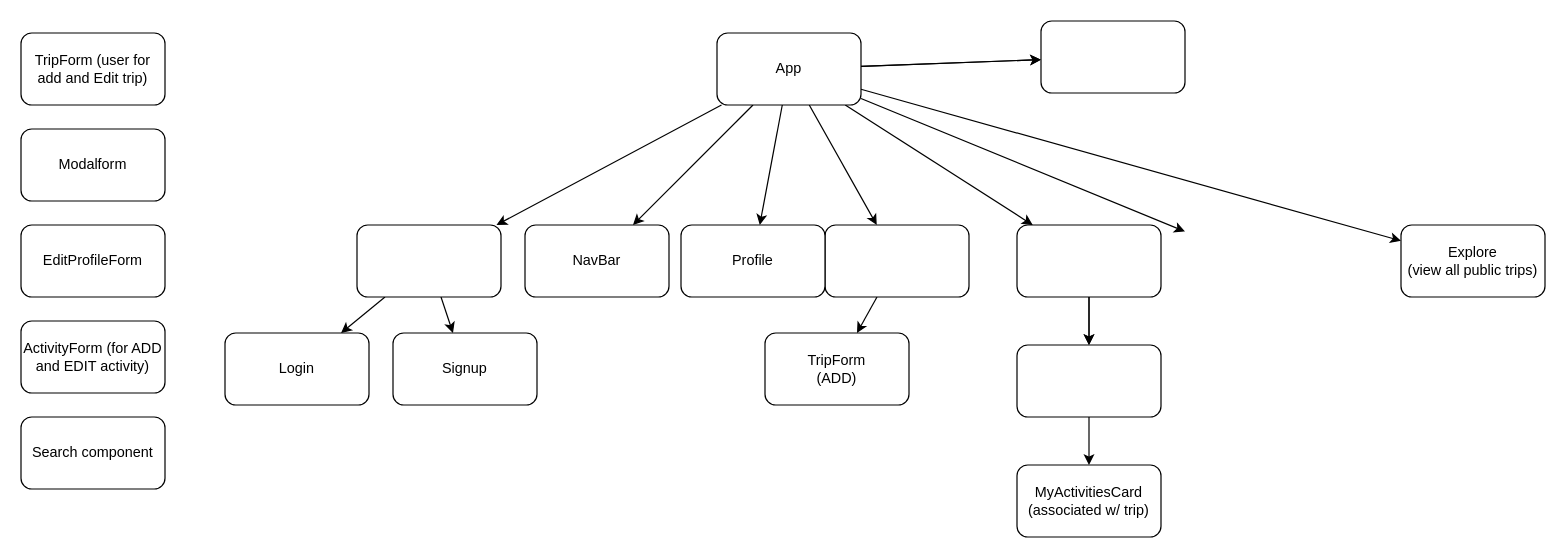
Image size: 1566x558. Some labels were removed from this diagram. The shapes that lost their labels are listed below. From the top down, each one's centre as x and y in pixels, then its label:
At point 1112,56: "TripForm (EDIT)/ separate link".
At point 428,260: "LoginContainer".
At point 896,260: "Home".
At point 1088,260: "MyTrips".
At point 1088,380: "MyTripsCard".
